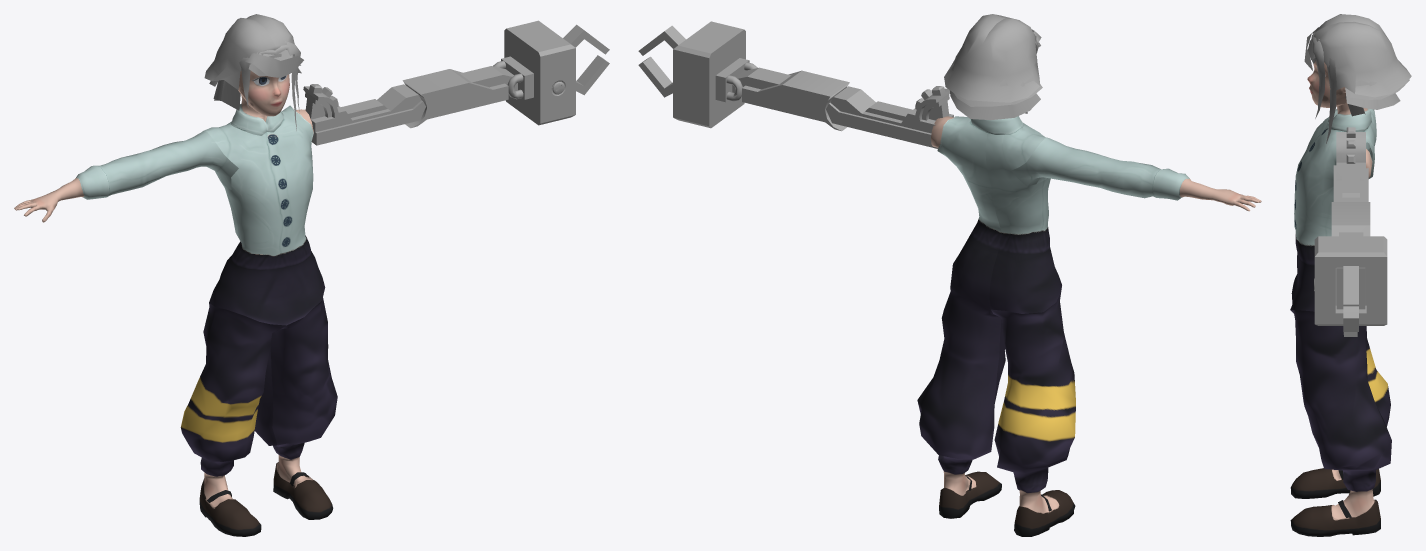
3 views of the same model, side by side, from view 1: azimuth 30°, elevation 25°; view 2: azimuth 150°, elevation 25°; view 3: azimuth 270°, elevation 25° (orthographic). The views are drawn at different scales.
Parts seen in each view (by area): view 1: SK_Lyra; view 2: SK_Lyra; view 3: SK_Lyra.
Boxes of the visible parts, x1,y1,x2,y2 form: SK_Lyra: [14, 14, 609, 536]; SK_Lyra: [638, 14, 1261, 536]; SK_Lyra: [1290, 14, 1411, 536].
Bounding box in the file's own units: 214 × 167 × 37.44.
